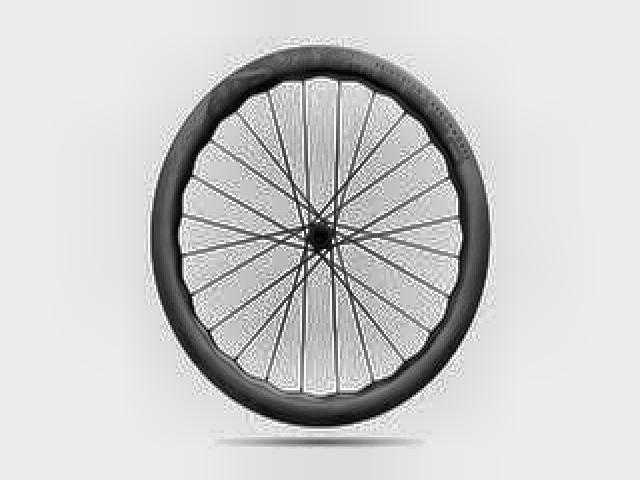wheel: (148, 39, 494, 430)
